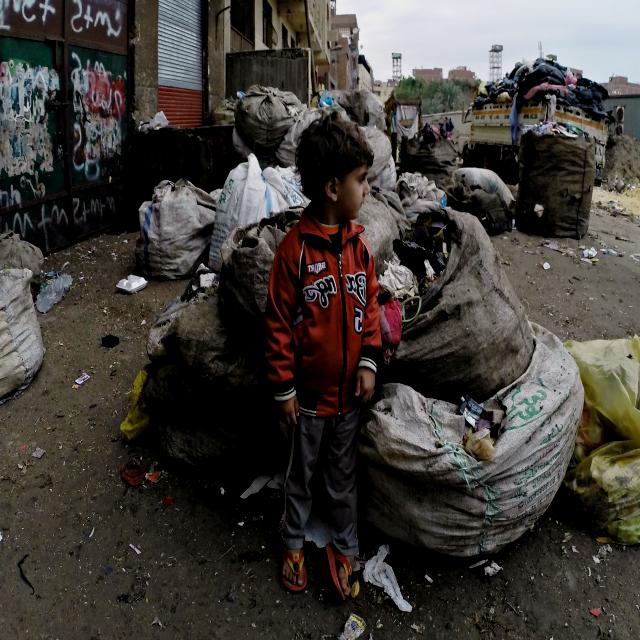garbage: (102, 87, 640, 610), (0, 216, 64, 416), (460, 44, 614, 121), (515, 129, 601, 239)
